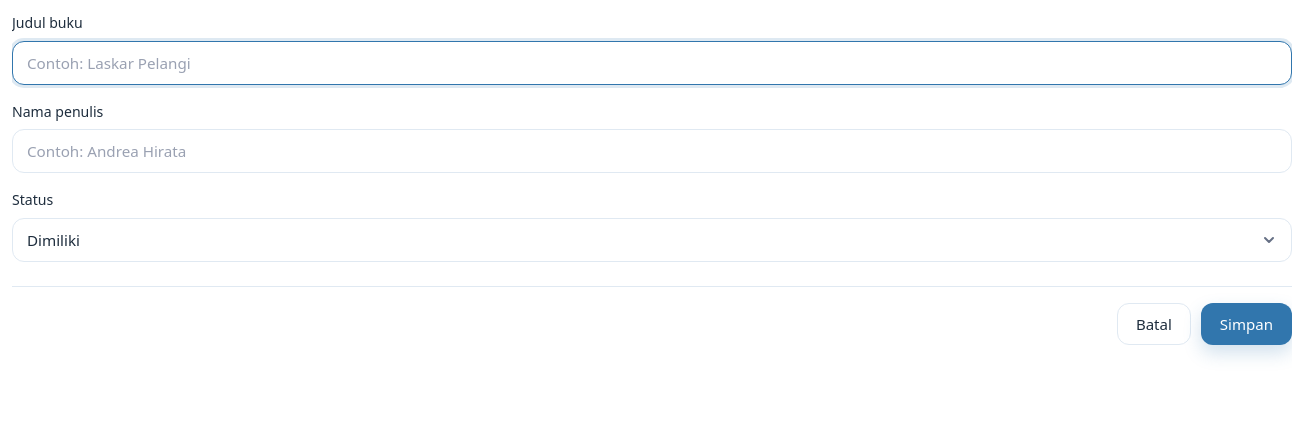
BookForm › menampilkan pesan validasi jika judul dan penulis kosong
Click the button "Simpan": (1246, 324) [1201, 302, 1292, 344]
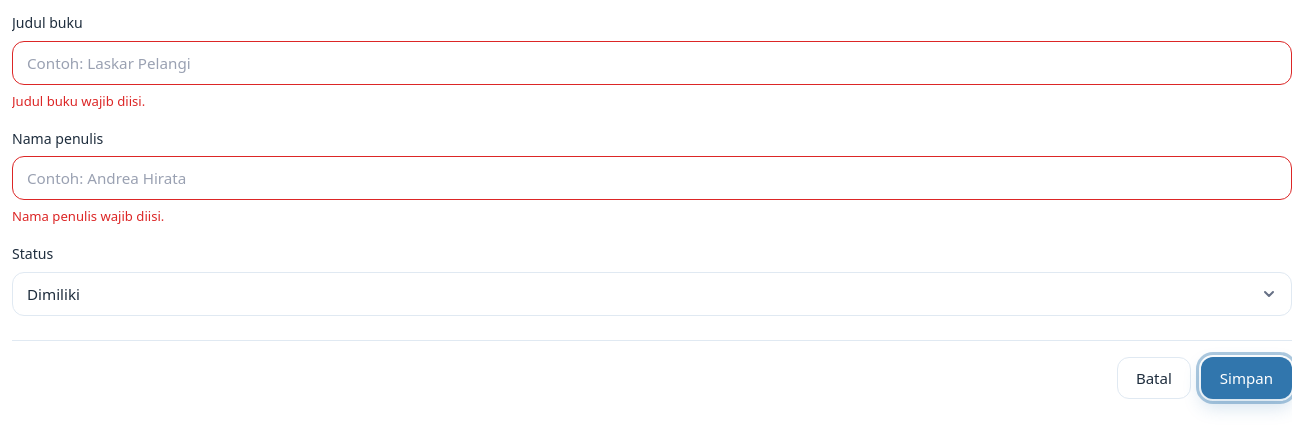
Now the text "Judul buku wajib diisi." is shown, box [12, 92, 145, 110]
Now the text "Nama penulis wajib diisi." is shown, box [12, 207, 164, 225]
Now the number of messages is 2, box [12, 92, 145, 110]; [12, 207, 164, 225]
